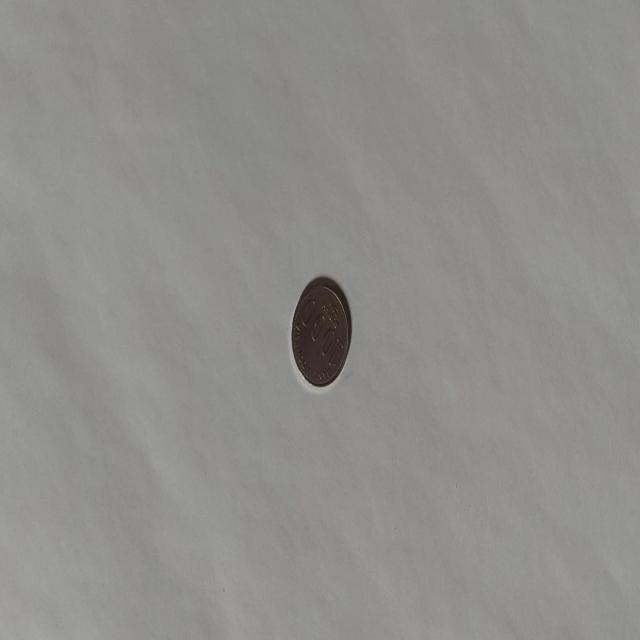seribu rupiah koin: (290, 274, 352, 389)
